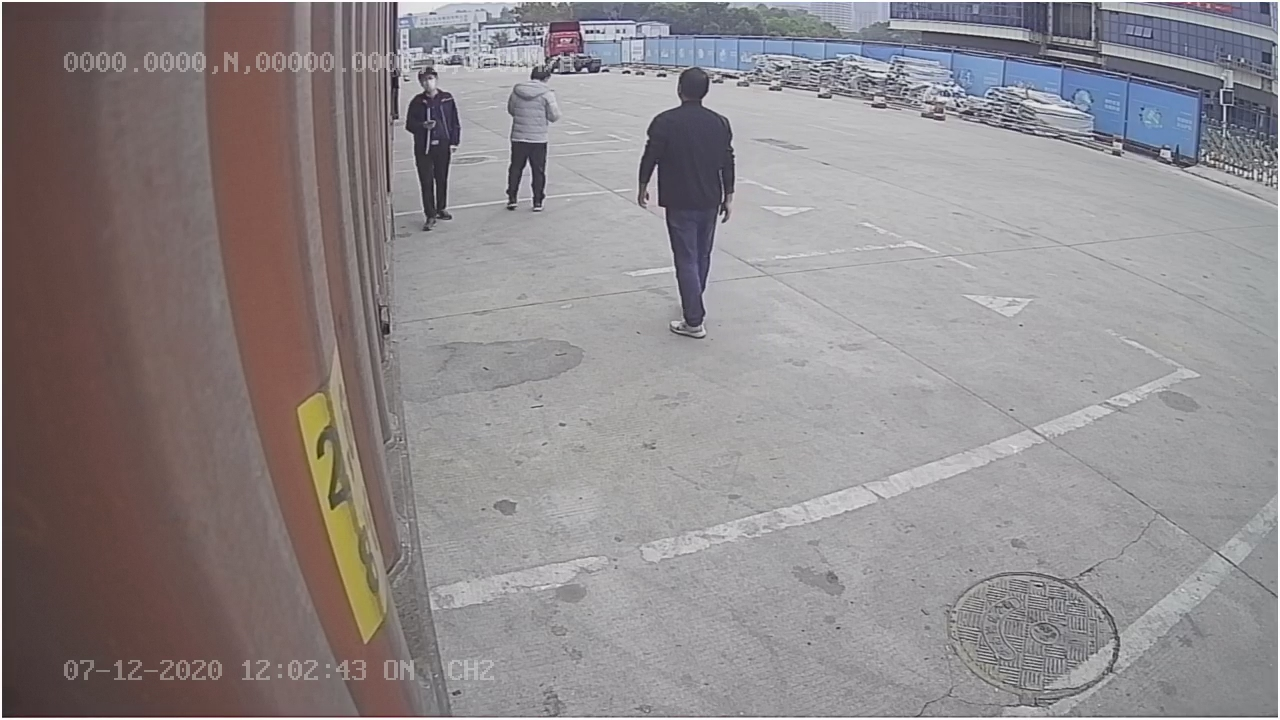person: (638, 65, 733, 341)
